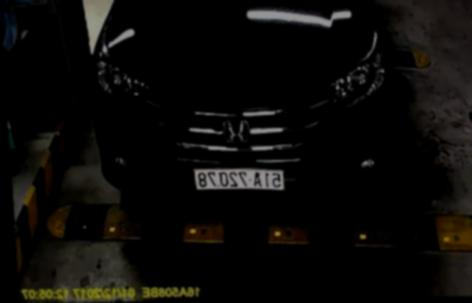License_Plate: (192, 167, 286, 194)
